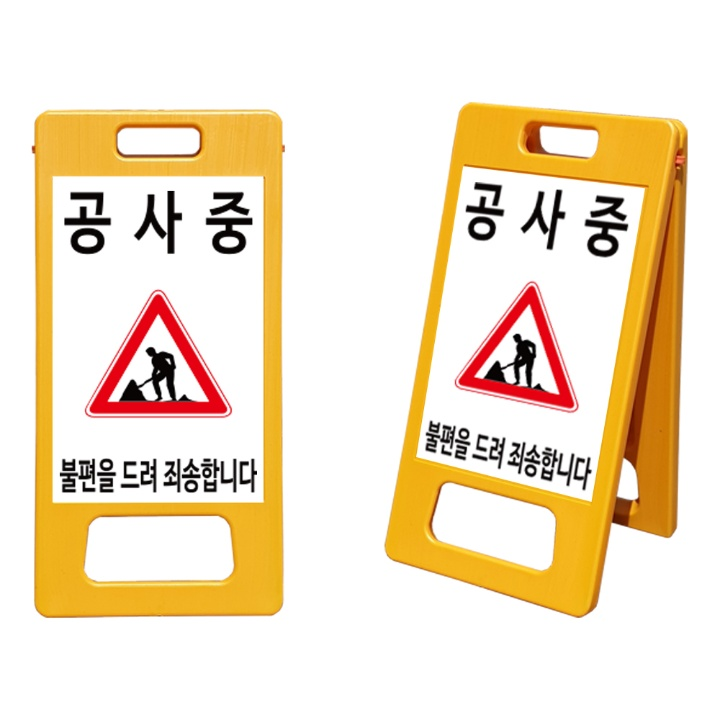const: (475, 325, 565, 405), (117, 337, 203, 413)
